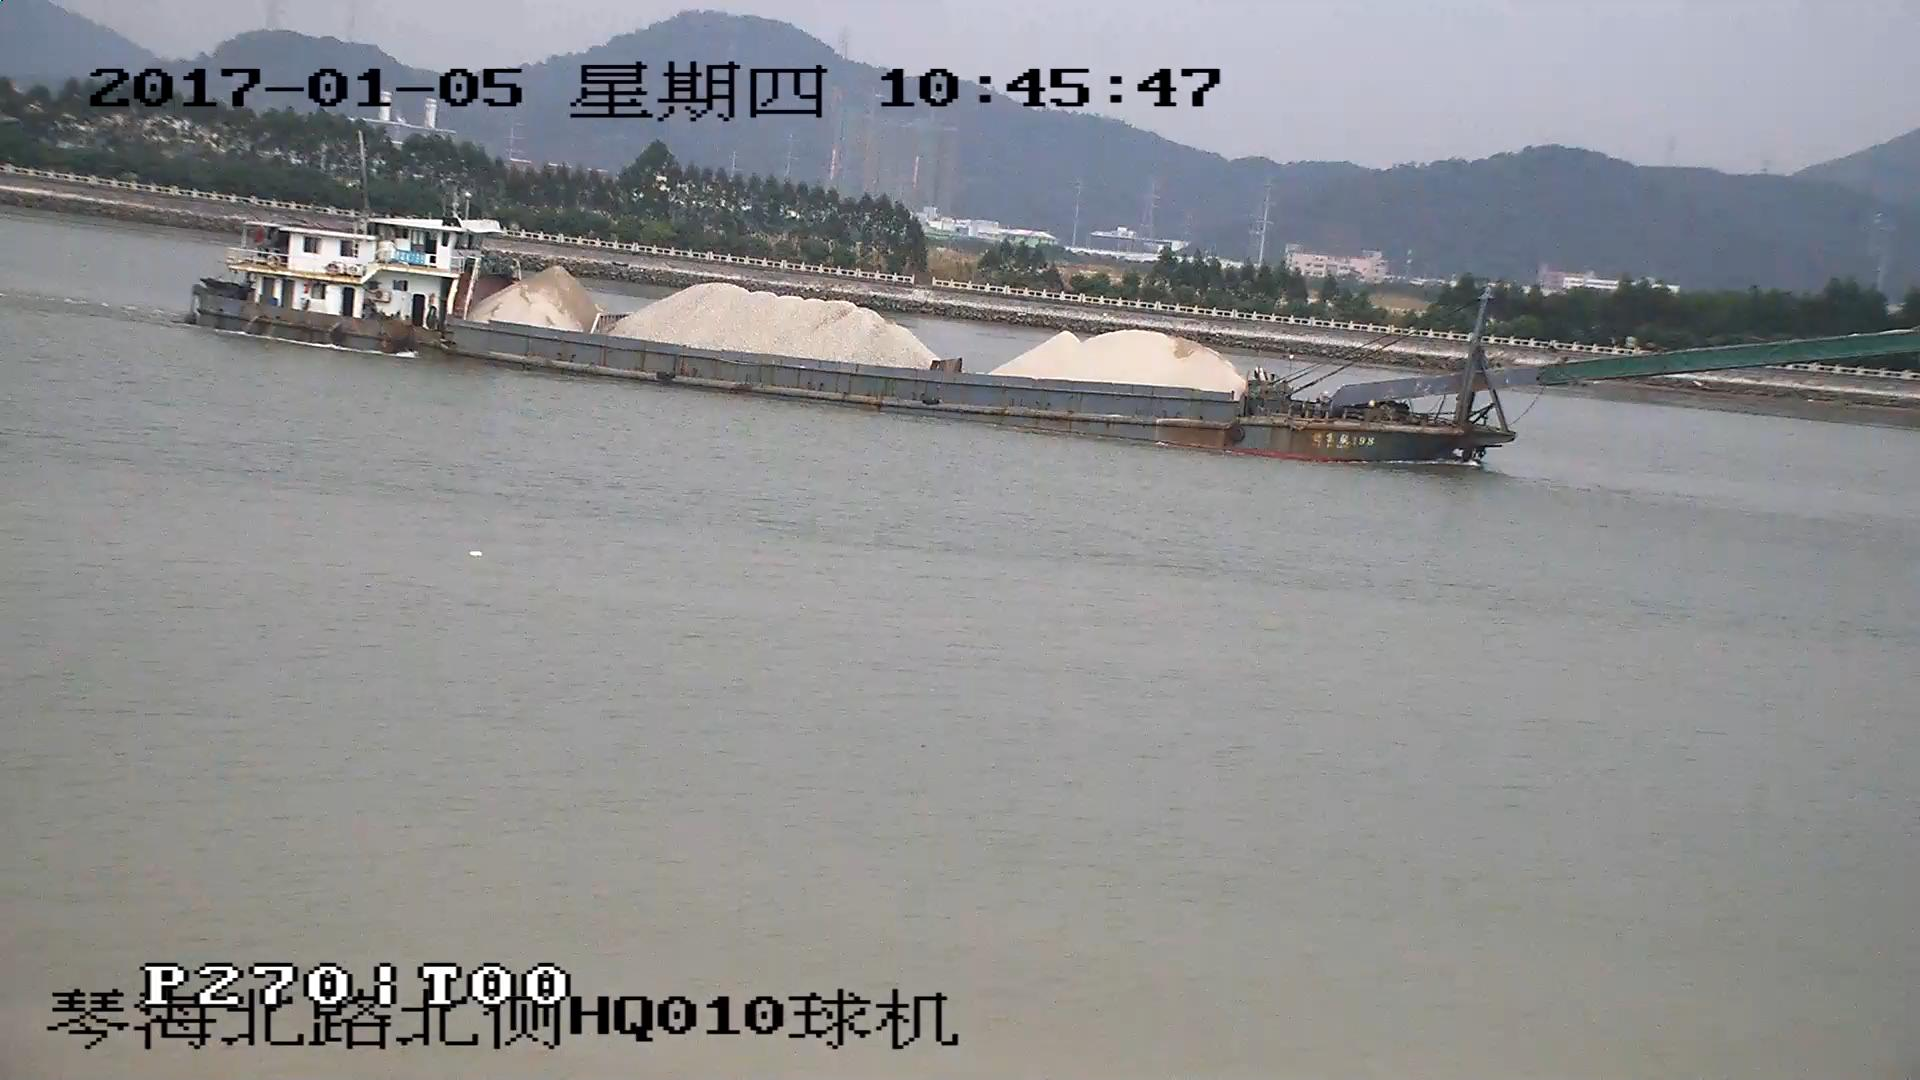ore carrier: (189, 211, 1919, 462)
